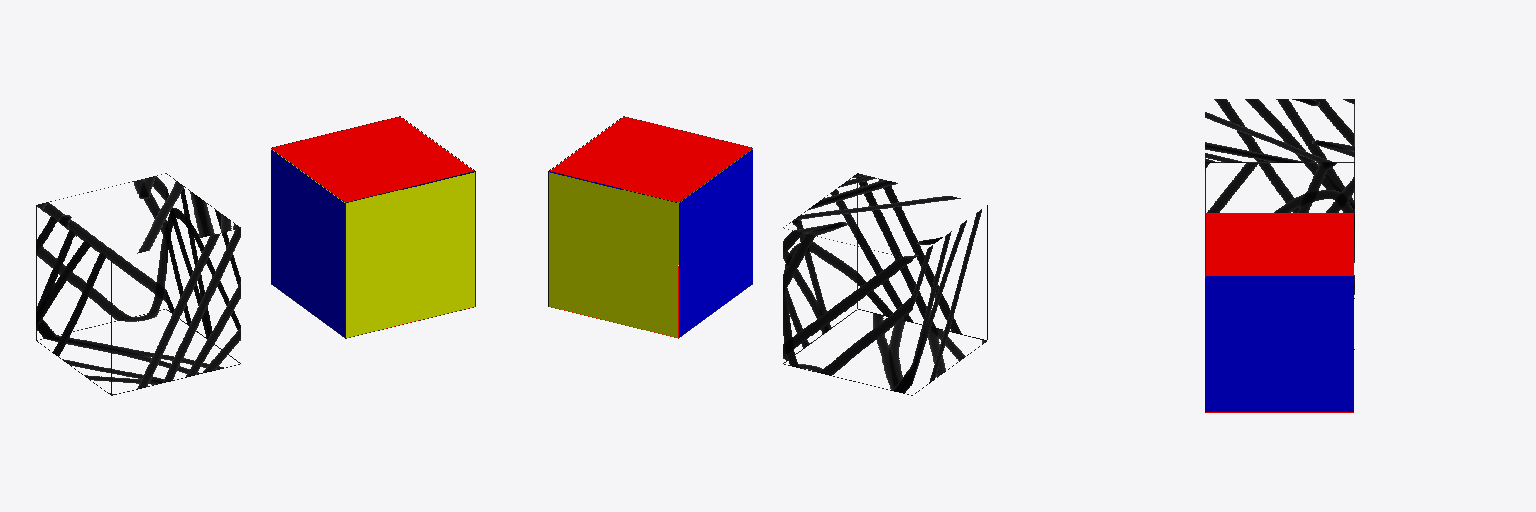
3 renders of one model, left to right at view 1: azimuth 30°, elevation 25°; view 2: azimuth 150°, elevation 25°; view 3: azimuth 270°, elevation 25°, orthographic.
Parts seen in each view (by area): view 1: 立方体, Cube; view 2: 立方体, Cube; view 3: 立方体, Cube.
Boxes of the visible parts, x1,y1,x2,y2 form: 立方体: [271, 116, 475, 338]; Cube: [36, 173, 240, 395]; 立方体: [548, 116, 752, 338]; Cube: [783, 173, 987, 395]; 立方体: [1205, 213, 1354, 412]; Cube: [1205, 99, 1354, 298].
Size of the model in its own units: 5.6 by 2 by 2.
2 materials, 2 textured.